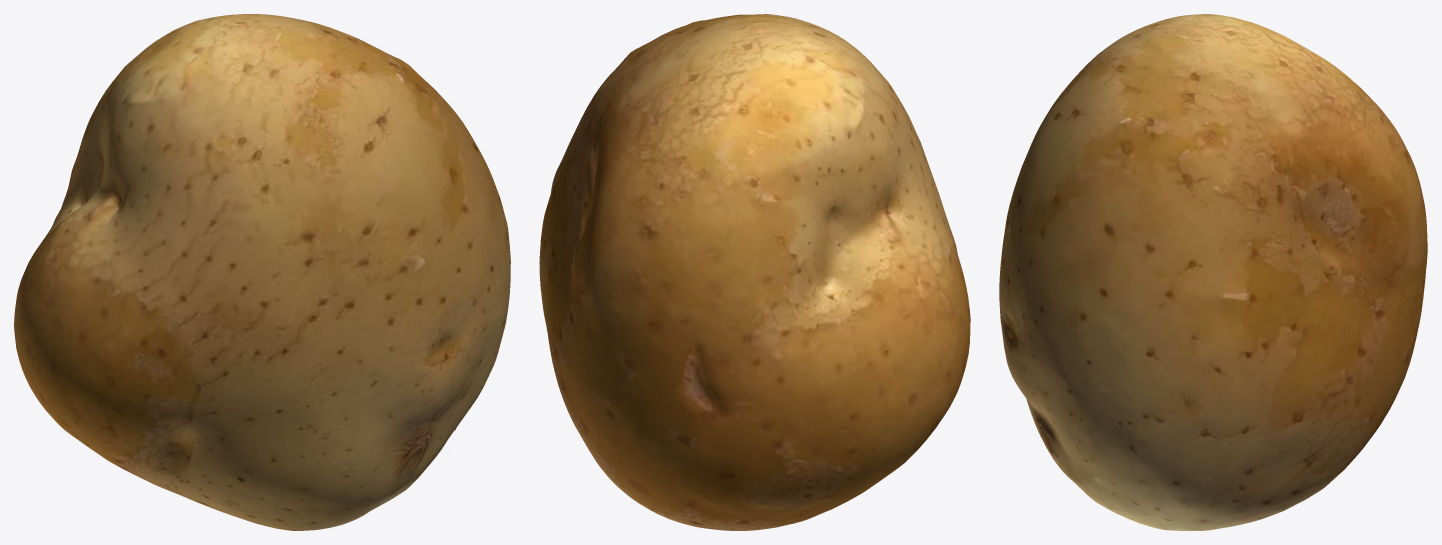
File: potato.glb
The picture shows the model from 3 angles, left to right: view 1: azimuth 30°, elevation 25°; view 2: azimuth 150°, elevation 25°; view 3: azimuth 270°, elevation 25°; orthographic projection. The views are drawn at different scales.
Visible parts, largest first — view 1: Object_2; view 2: Object_2; view 3: Object_2.
Part boxes in pixels (x1,y1,x2,y2): Object_2: [14, 14, 510, 530]; Object_2: [539, 14, 970, 530]; Object_2: [999, 14, 1427, 530].
Size of the model in its own units: 2.15 by 2.34 by 1.93.
1 material, 1 textured.
